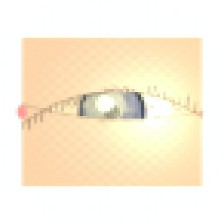corneal_ulcer: (72, 79, 138, 132)
